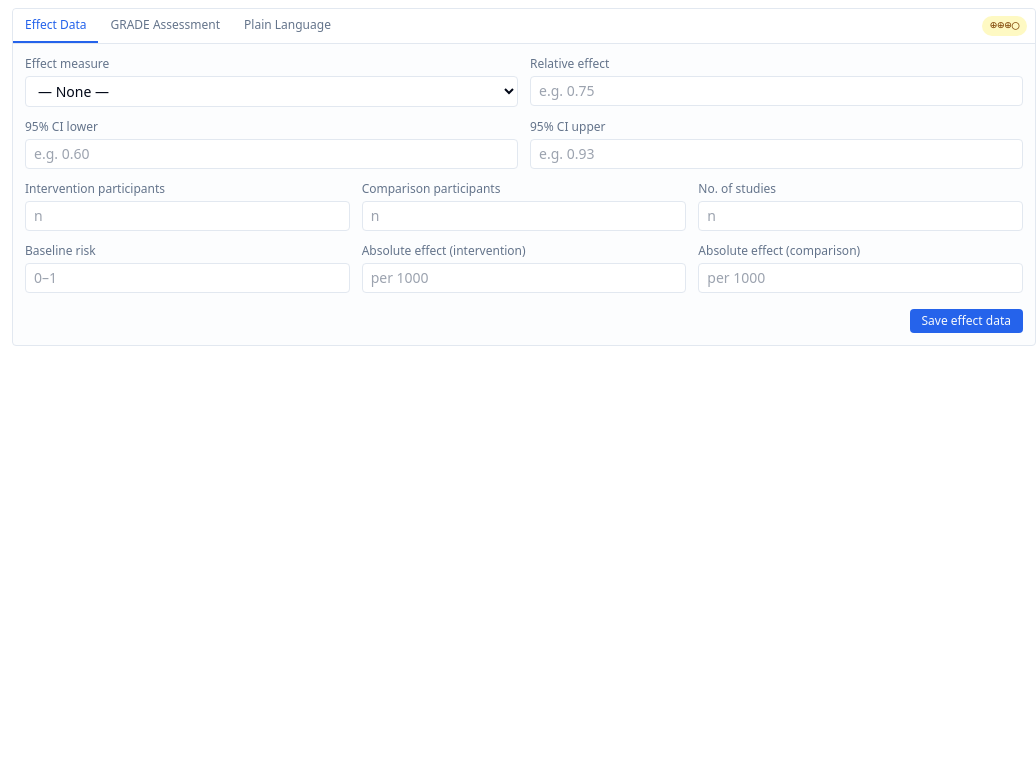
Test: GradeAssessmentPanel › shows existing GRADE values on GRADE tab
Click the button "GRADE Assessment" at (165, 26), box x1=98 y1=9 x2=232 y2=43
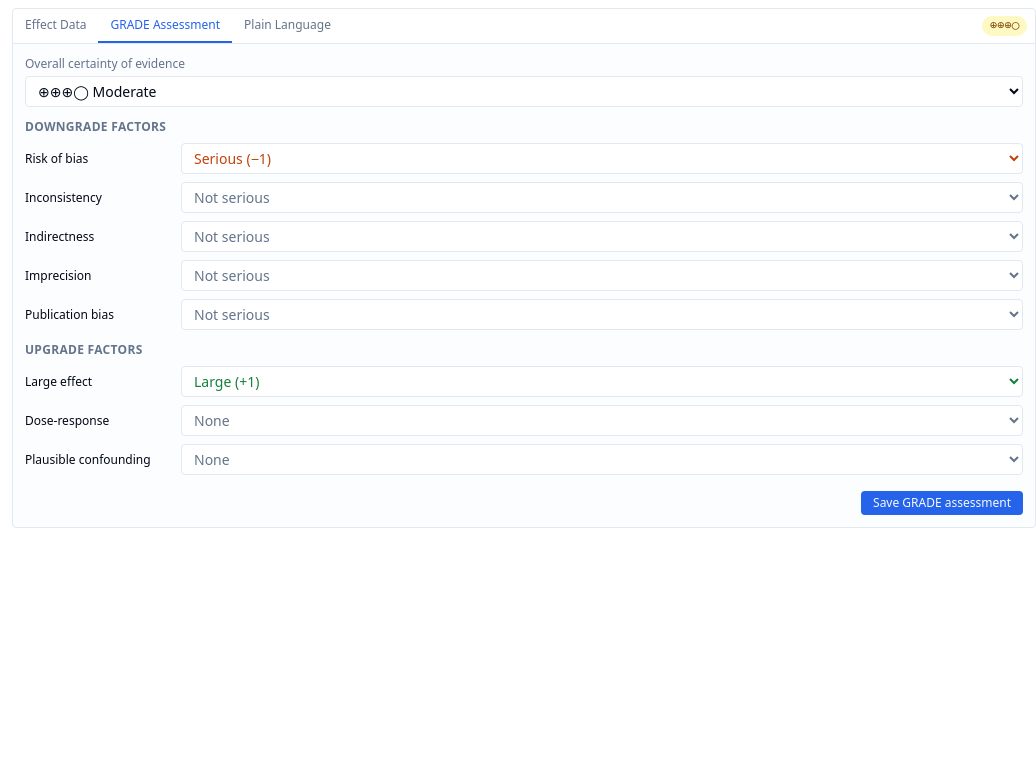
expect the dropdown named "Overall certainty of evidence" shows "⊕⊕⊕◯ Moderate": met, box x1=25 y1=76 x2=1023 y2=107
expect the dropdown named "Risk of bias" shows "Serious (−1)": met, box x1=181 y1=143 x2=1023 y2=174
expect the dropdown named "Large effect" shows "Large (+1)": met, box x1=181 y1=366 x2=1023 y2=397
